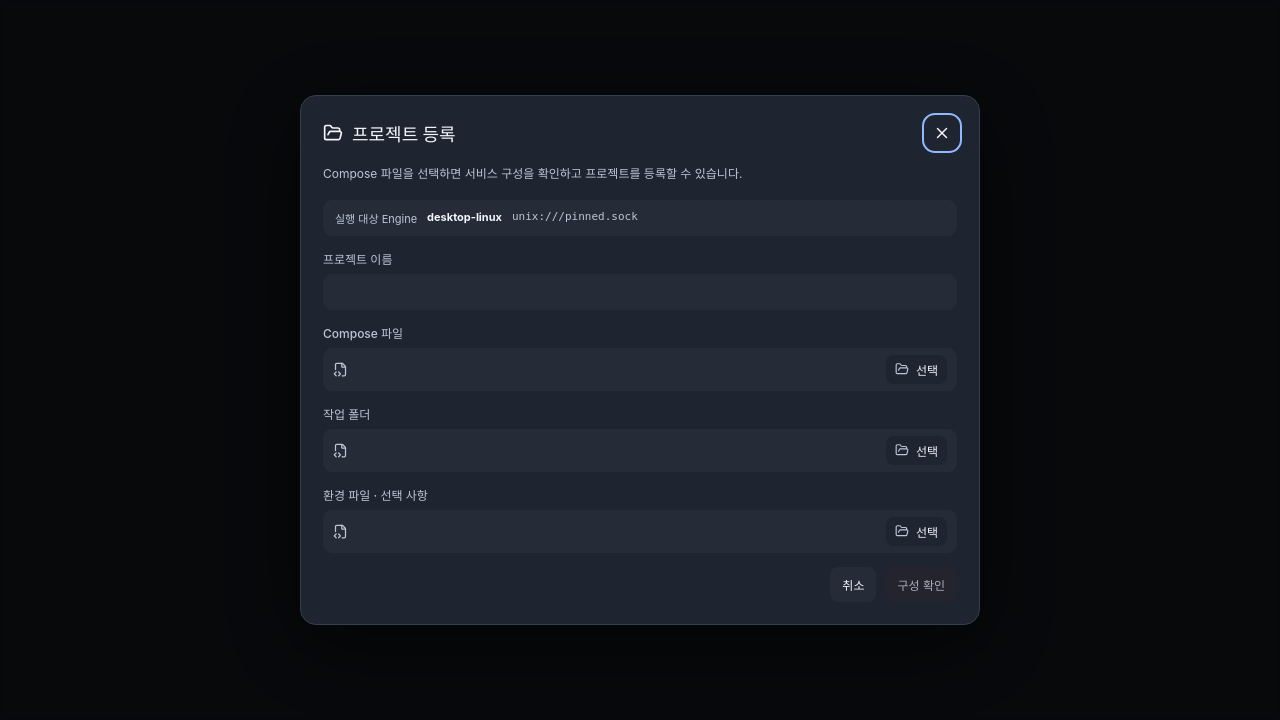
Test: keeps a failed save and all form inputs available for correction
Click the button with aria-label "Compose 파일 선택". click: {"x": 916, "y": 369}
box: left=886, top=355, right=947, bottom=384
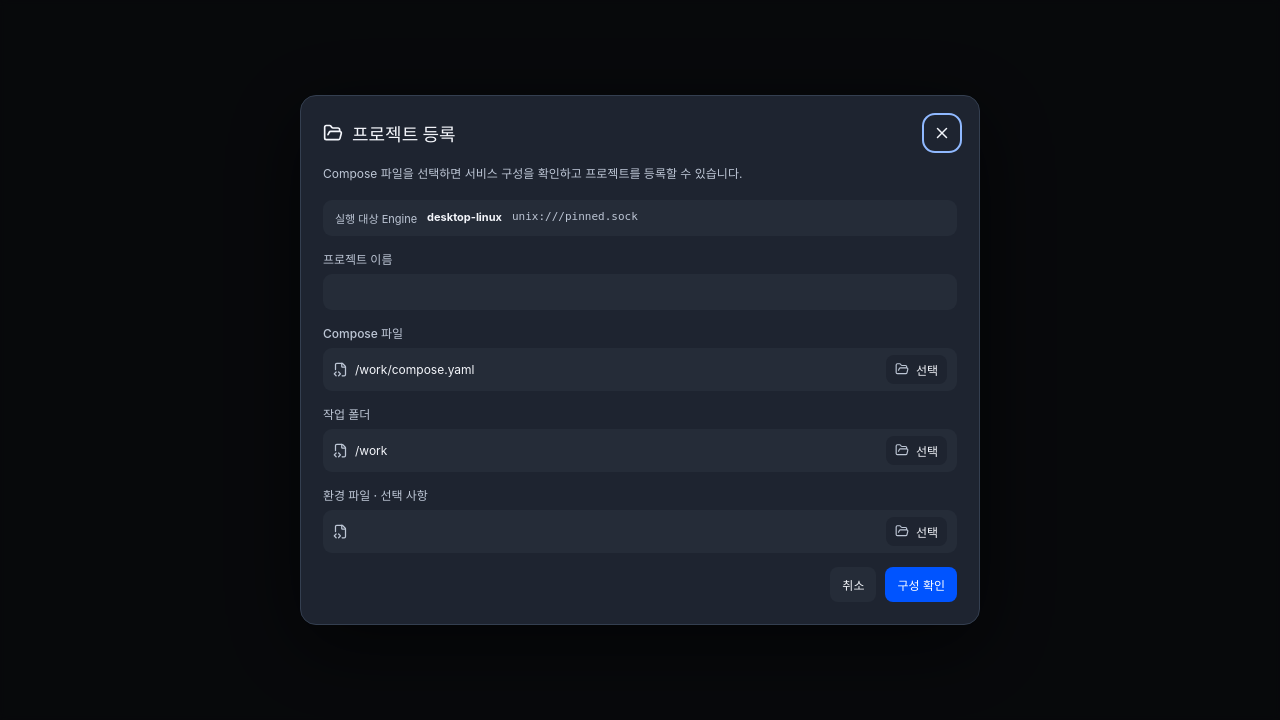
Click the button "구성 확인". click: {"x": 921, "y": 584}
box: left=886, top=567, right=957, bottom=602
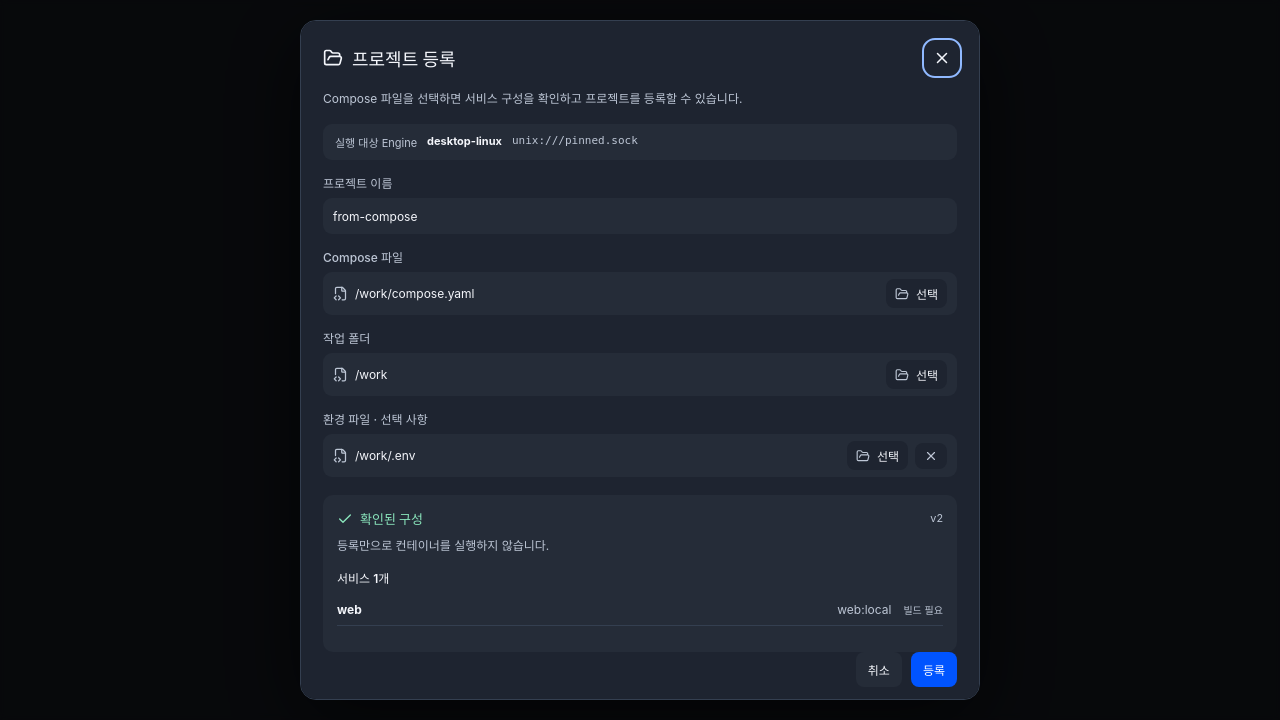
Click the button "등록". click: {"x": 934, "y": 669}
box: left=911, top=652, right=957, bottom=687
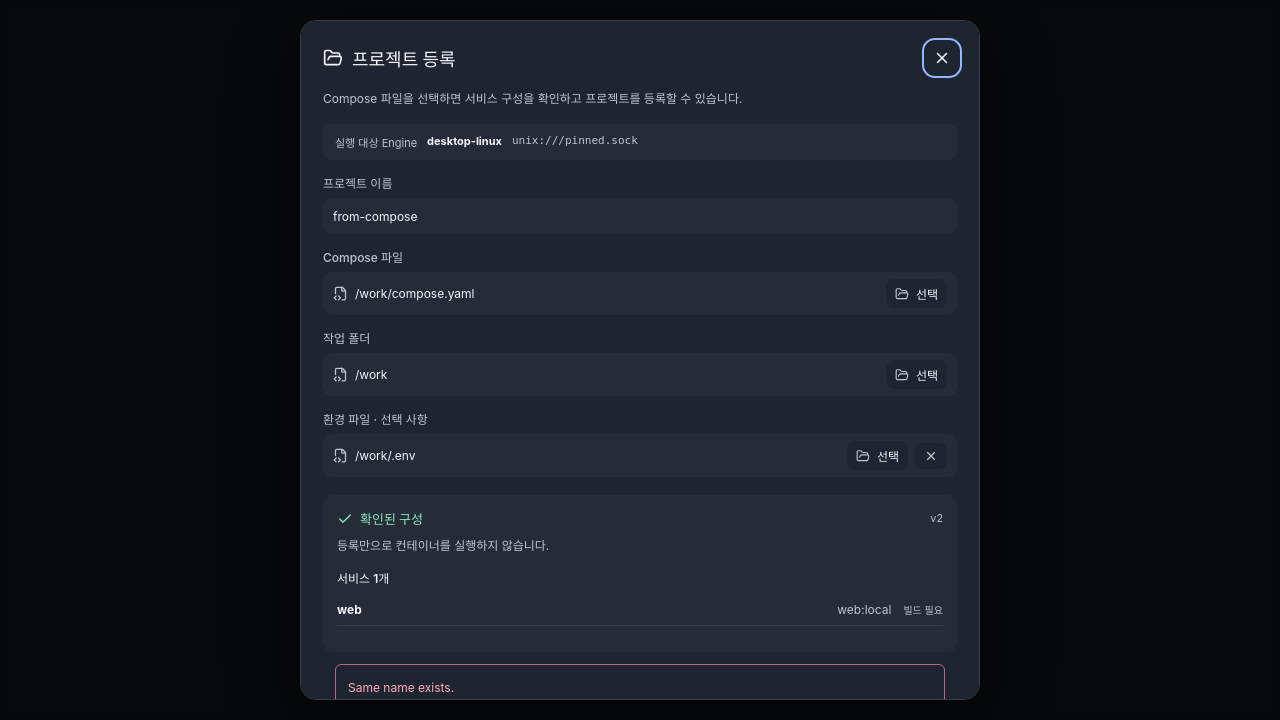
Expected: the field labelled "프로젝트 이름" holds "from-compose", left=323, top=198, right=957, bottom=234
Expected: the text "Same name exists." is shown, left=348, top=680, right=454, bottom=695
